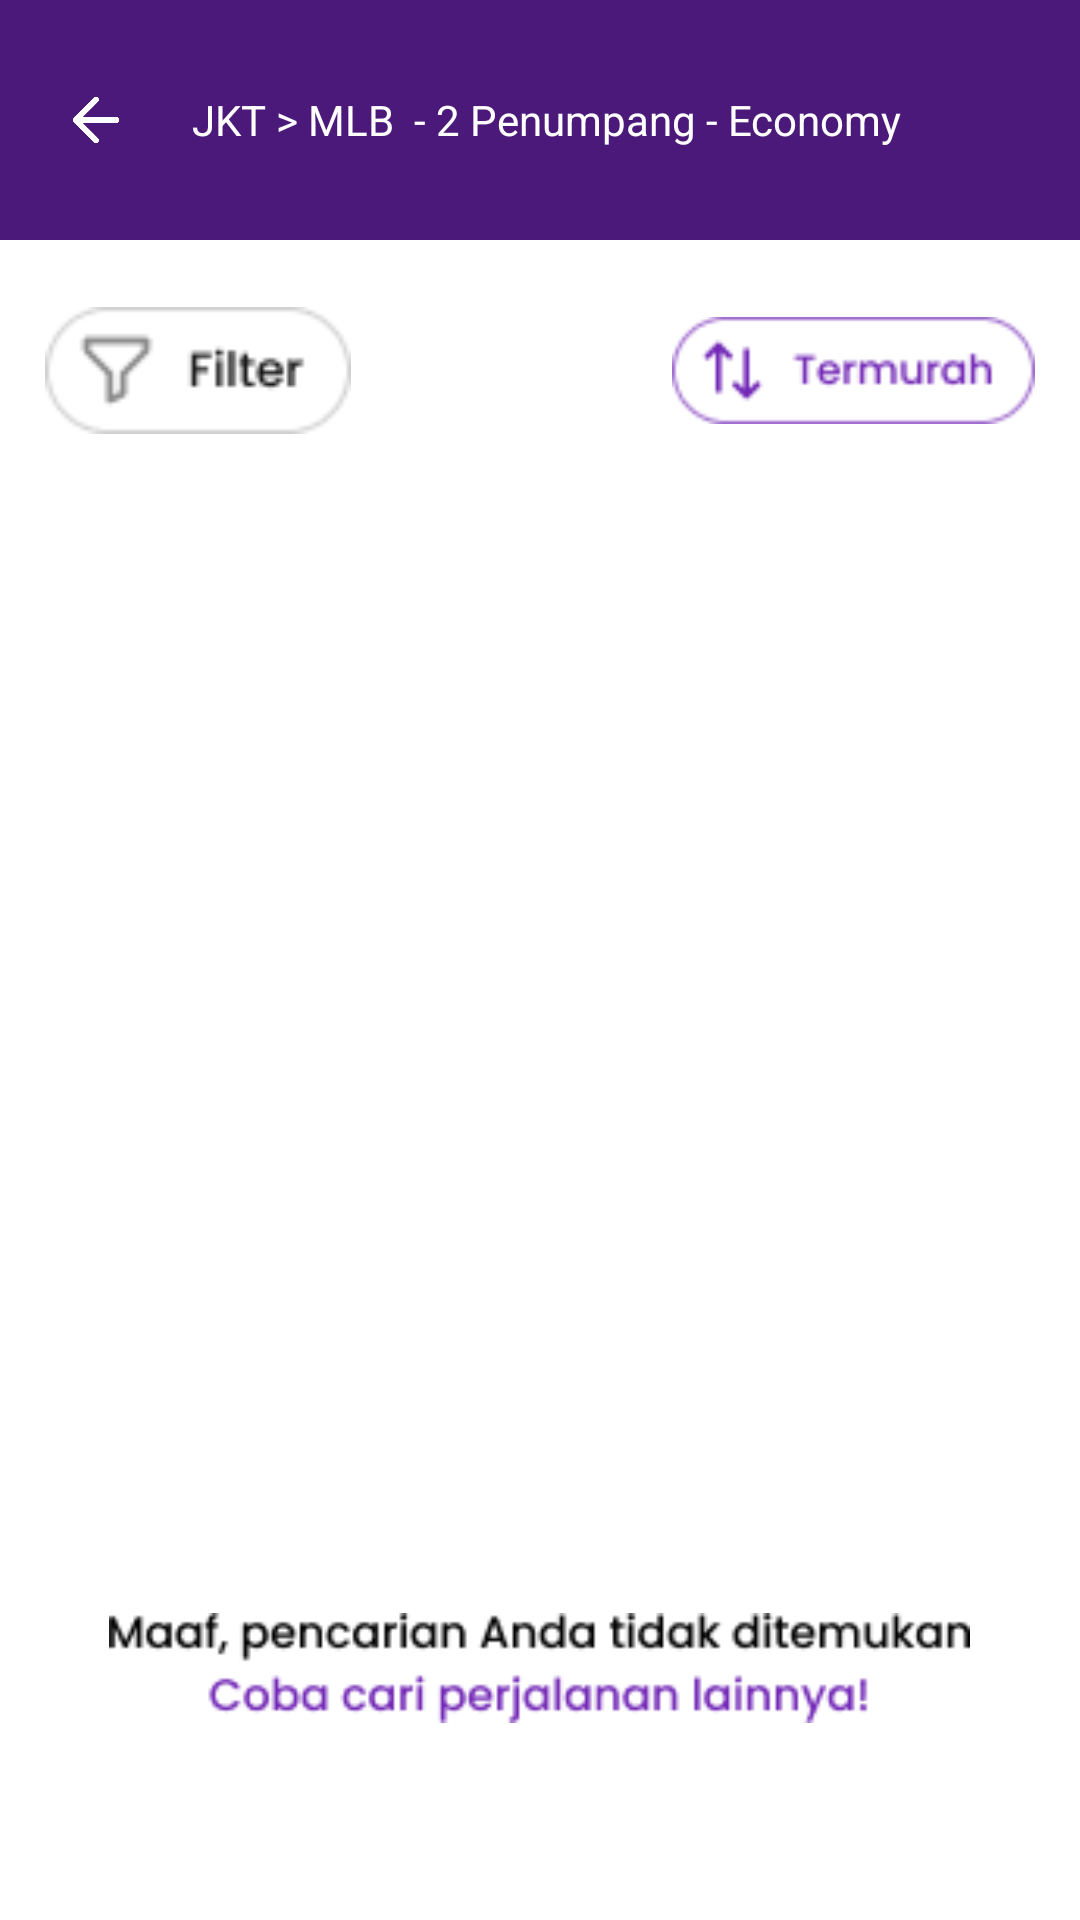

Where icons sit on this 1080 × 1920 app screen, as bbox=[x1, y1, x2, y2]:
back: bbox=[73, 97, 119, 143]
